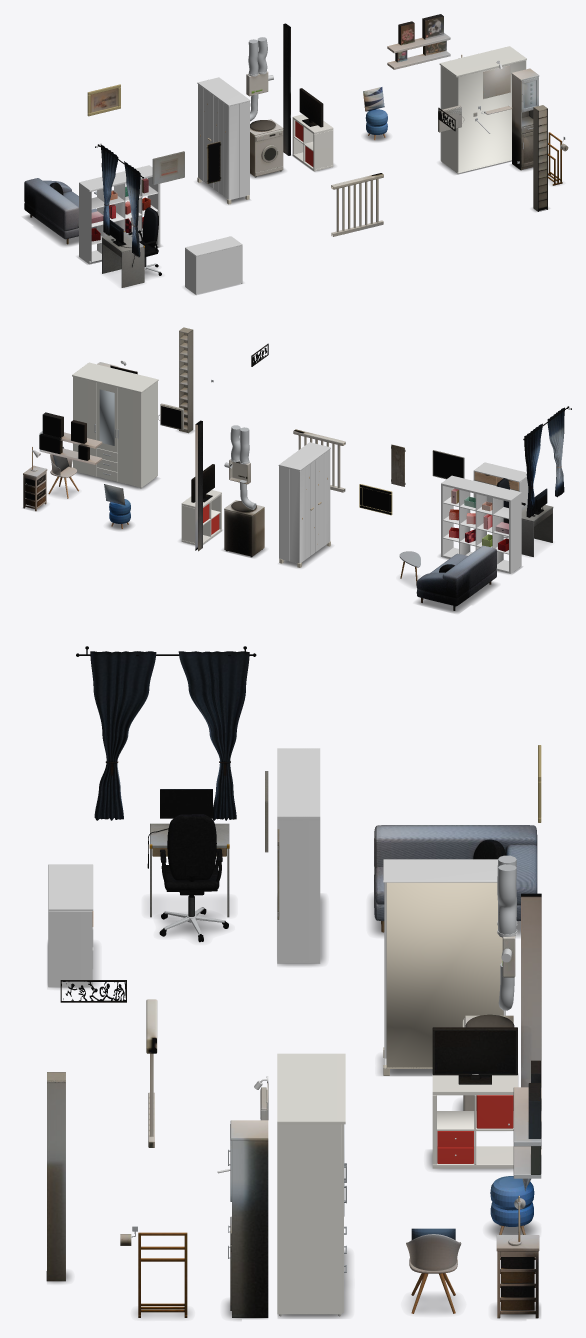
The model's file is floor1-furniture.glb.
3 views of the same model, one above another, from view 1: azimuth 30°, elevation 25°; view 2: azimuth 150°, elevation 25°; view 3: azimuth 270°, elevation 25° (orthographic). The views are drawn at different scales.
Visible parts, largest first — view 1: lego_room__wd_back, back_bedroom__wr_back, back_bedroom__kx_bottom, office__chest_back, back_bedroom__daybed_arm, bathroom__cc_back, lego_room__ins_door, laundry_closet__washer_body, office__desk_back_rail, landing__balustrade_base, bathroom__ns_back, lego_room__box_dino_body (+17 smaller); view 2: lego_room__wd_back, back_bedroom__wr_back, back_bedroom__kx_bottom, back_bedroom__daybed_arm, laundry_closet__washer_body, lego_room__ins_door, bathroom__ns_back, lego_room__box_dino_body, office__desk_back_rail, office__chest_back, lego_room__corner_filler, laundry_closet__duco_box_pbr (+14 smaller); view 3: back_bedroom__wr_back, lego_room__wd_back, back_bedroom__kx_bottom, bathroom__cc_back, back_bedroom__daybed_arm, lego_room__ins_door, office__curtain_s, office__curtain_n, office__chest_back, office__ch_arm-1, lego_room__tv_logo, bathroom__ns_back (+13 smaller).
Part boxes in pixels (x1=…): lego_room__wd_back: x1=439, y1=46, x2=526, y2=174; back_bedroom__wr_back: x1=197, y1=77, x2=250, y2=204; back_bedroom__kx_bottom: x1=79, y1=165, x2=160, y2=264; office__chest_back: x1=185, y1=236, x2=242, y2=294; back_bedroom__daybed_arm: x1=24, y1=178, x2=96, y2=244; bathroom__cc_back: x1=511, y1=68, x2=539, y2=170; lego_room__ins_door: x1=292, y1=114, x2=333, y2=171; laundry_closet__washer_body: x1=250, y1=119, x2=283, y2=177; office__desk_back_rail: x1=102, y1=231, x2=144, y2=287; landing__balustrade_base: x1=331, y1=173, x2=383, y2=236; bathroom__ns_back: x1=533, y1=105, x2=547, y2=211; lego_room__box_dino_body: x1=395, y1=14, x2=446, y2=62; lego_room__wd_back: x1=72, y1=362, x2=158, y2=488; back_bedroom__wr_back: x1=278, y1=442, x2=330, y2=567; back_bedroom__kx_bottom: x1=441, y1=475, x2=521, y2=573; back_bedroom__daybed_arm: x1=416, y1=545, x2=496, y2=610; laundry_closet__washer_body: x1=224, y1=500, x2=264, y2=557; lego_room__ins_door: x1=181, y1=490, x2=221, y2=544; bathroom__ns_back: x1=179, y1=327, x2=193, y2=433; lego_room__box_dino_body: x1=39, y1=412, x2=89, y2=460; office__desk_back_rail: x1=521, y1=504, x2=553, y2=556; office__chest_back: x1=473, y1=462, x2=528, y2=507; lego_room__corner_filler: x1=195, y1=420, x2=202, y2=551; laundry_closet__duco_box_pbr: x1=224, y1=425, x2=256, y2=509; back_bedroom__wr_back: x1=383, y1=859, x2=505, y2=1075; lego_room__wd_back: x1=277, y1=1053, x2=346, y2=1316; back_bedroom__kx_bottom: x1=277, y1=748, x2=320, y2=963; bathroom__cc_back: x1=230, y1=1120, x2=268, y2=1317; back_bedroom__daybed_arm: x1=374, y1=825, x2=537, y2=932; lego_room__ins_door: x1=432, y1=1073, x2=518, y2=1168; office__curtain_s: x1=90, y1=651, x2=156, y2=820; office__curtain_n: x1=178, y1=651, x2=249, y2=820; office__chest_back: x1=48, y1=864, x2=93, y2=987; office__ch_arm-1: x1=159, y1=814, x2=228, y2=942; lego_room__tv_logo: x1=432, y1=1027, x2=517, y2=1084; bathroom__ns_back: x1=46, y1=1072, x2=65, y2=1281.
Bounding box in the file's own units: 9.31 × 2.54 × 4.69.
50 materials, 25 textured.
